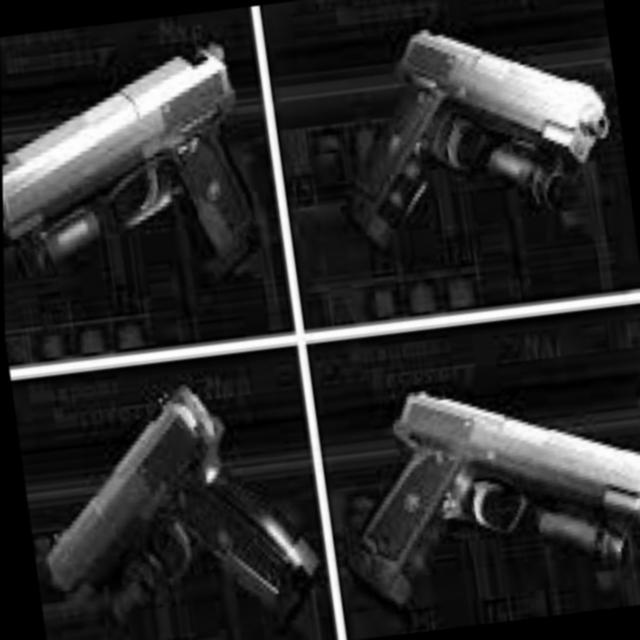weapon: (0, 7, 277, 326), (12, 367, 328, 640), (317, 359, 640, 613), (319, 6, 623, 252)
